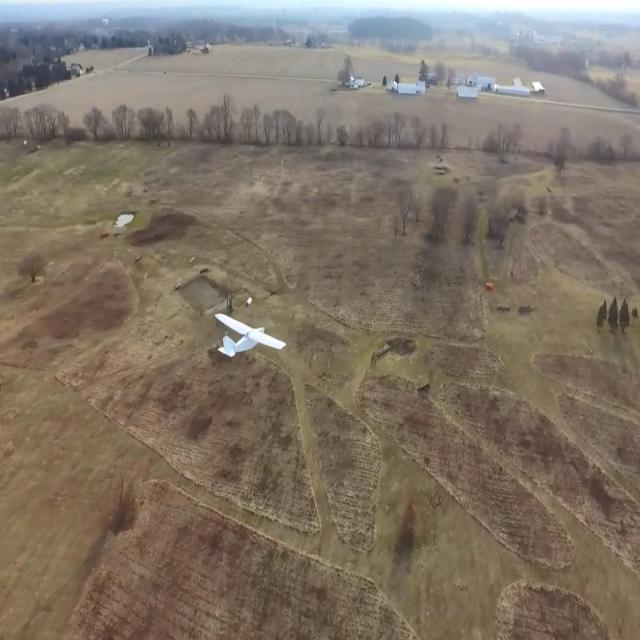iha: (238, 310, 257, 360)
